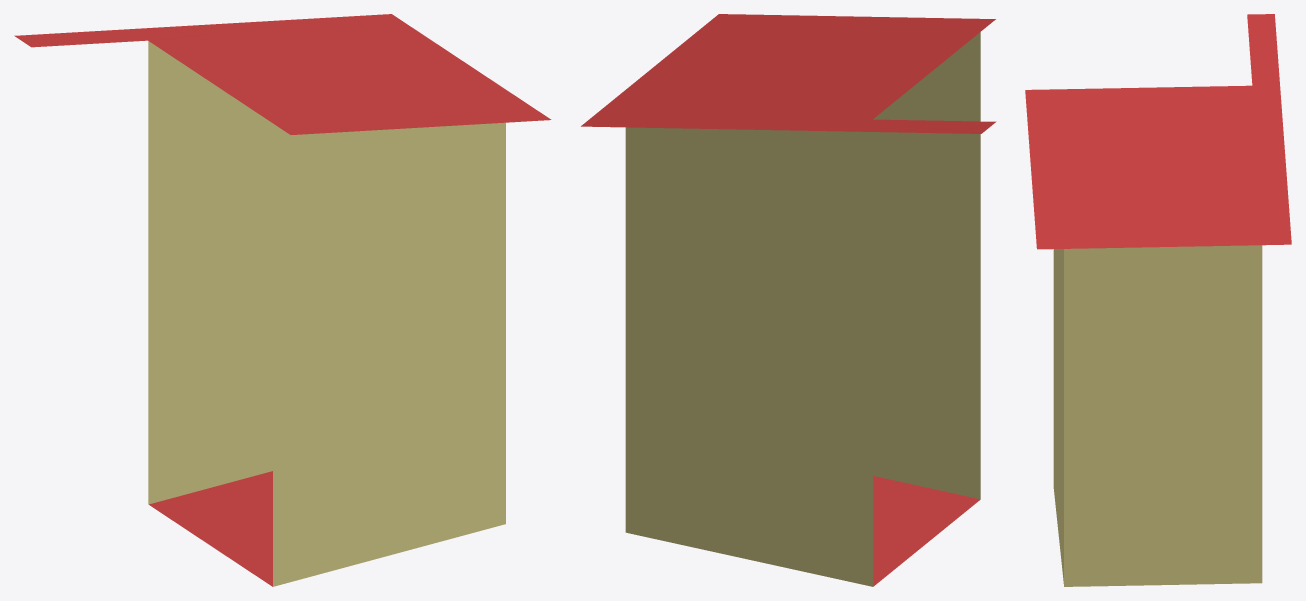
The picture shows the model from 3 angles, left to right: view 1: azimuth 30°, elevation 25°; view 2: azimuth 150°, elevation 25°; view 3: azimuth 270°, elevation 25°; orthographic projection. The views are drawn at different scales.
Size of the model in its own units: 6.93 by 4.68 by 8.11.
